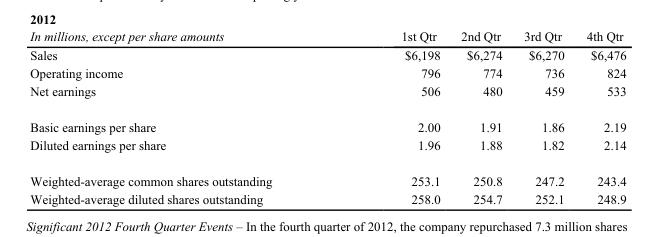table: (29, 28, 625, 206)
table column: (29, 28, 335, 206), (335, 28, 449, 206), (449, 28, 512, 206), (512, 28, 574, 206), (574, 28, 625, 206)
table column header: (29, 28, 625, 45)
table row: (29, 81, 625, 108), (29, 108, 625, 135), (29, 135, 625, 162), (29, 162, 625, 189), (29, 45, 625, 63), (29, 63, 625, 81), (29, 28, 625, 45), (29, 189, 625, 206)
